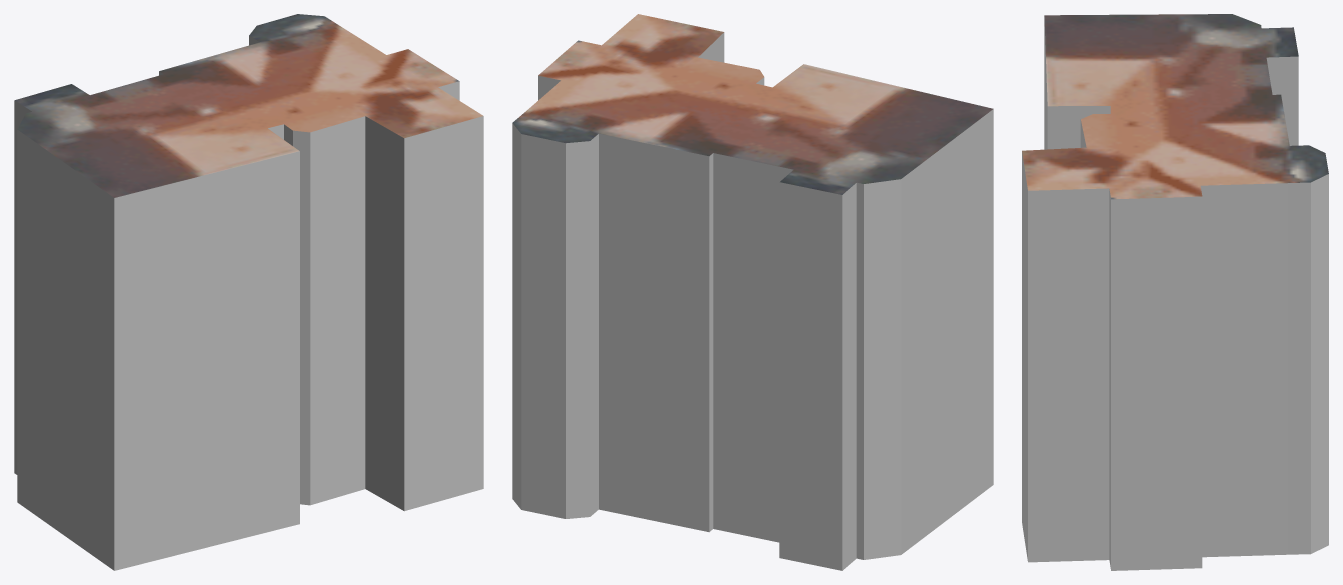
File: DEBW_0010007Tx8e.gltf
3 renders of one model, left to right at view 1: azimuth 30°, elevation 25°; view 2: azimuth 150°, elevation 25°; view 3: azimuth 270°, elevation 25°, orthographic.
Visible parts, largest first — view 1: Z_UP; view 2: Z_UP; view 3: Z_UP.
Part boxes in pixels (x1,y1,x2,y2): Z_UP: (14, 14, 483, 570); Z_UP: (512, 14, 993, 570); Z_UP: (1022, 14, 1328, 570).
Size of the model in its own units: 20.38 by 19.05 by 14.26.
Materials: 2 (1 with a texture image).
